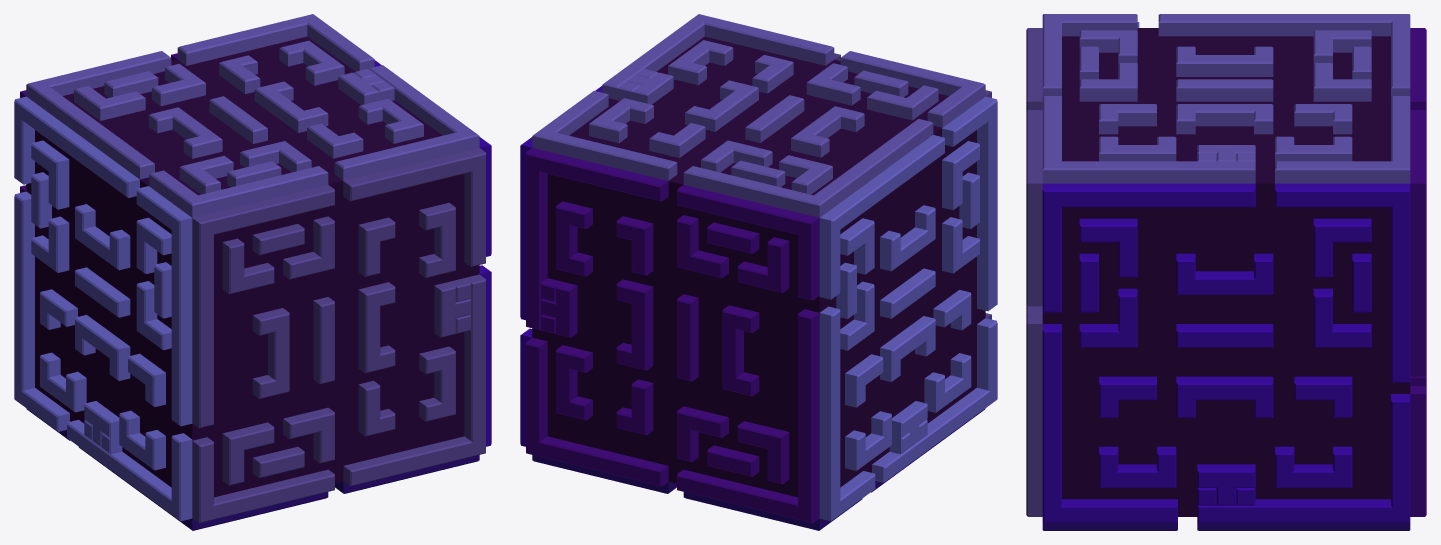
Rendered from Level2BlockoutScoggins.fbx.
The picture shows the model from 3 angles, left to right: view 1: azimuth 30°, elevation 25°; view 2: azimuth 150°, elevation 25°; view 3: azimuth 270°, elevation 25°; orthographic projection. The views are drawn at different scales.
Visible parts, largest first — view 1: Corner_Piece_w_Ends_12, Cube_4; view 2: Corner_Piece_w_Ends_12, Cube_4; view 3: Corner_Piece_w_Ends_12, Cube_4.
Boxes of the visible parts, x1,y1,x2,y2 form: Corner_Piece_w_Ends_12: (14, 14, 491, 530); Cube_4: (26, 36, 479, 497); Corner_Piece_w_Ends_12: (520, 14, 997, 530); Cube_4: (532, 36, 985, 497); Corner_Piece_w_Ends_12: (1026, 14, 1426, 530); Cube_4: (1042, 28, 1410, 516).
Size of the model in its own units: 6203 by 6203 by 6203.
